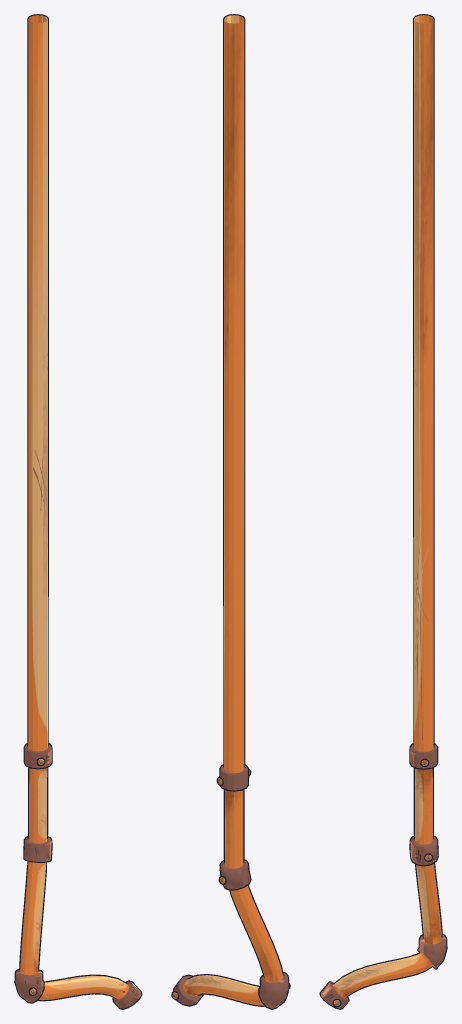
Rendered from tuyau.glb.
3 renders of one model, left to right at view 1: azimuth 90°, elevation 25°; view 2: azimuth 210°, elevation 25°; view 3: azimuth 270°, elevation 25°, orthographic. The views are drawn at different scales.
Visible parts, largest first — view 1: tuyau, tuyau border; view 2: tuyau, tuyau border; view 3: tuyau, tuyau border.
Part boxes in pixels (<box>): tuyau: <box>15,15,141,1008</box>; tuyau border: <box>14,14,142,1009</box>; tuyau: <box>174,15,288,1008</box>; tuyau border: <box>173,14,289,1009</box>; tuyau: <box>320,15,446,1008</box>; tuyau border: <box>319,14,447,1009</box>.
Bounding box in the file's own units: 0.4965 × 6.92 × 0.8122.
Materials: 3 (2 with a texture image).
